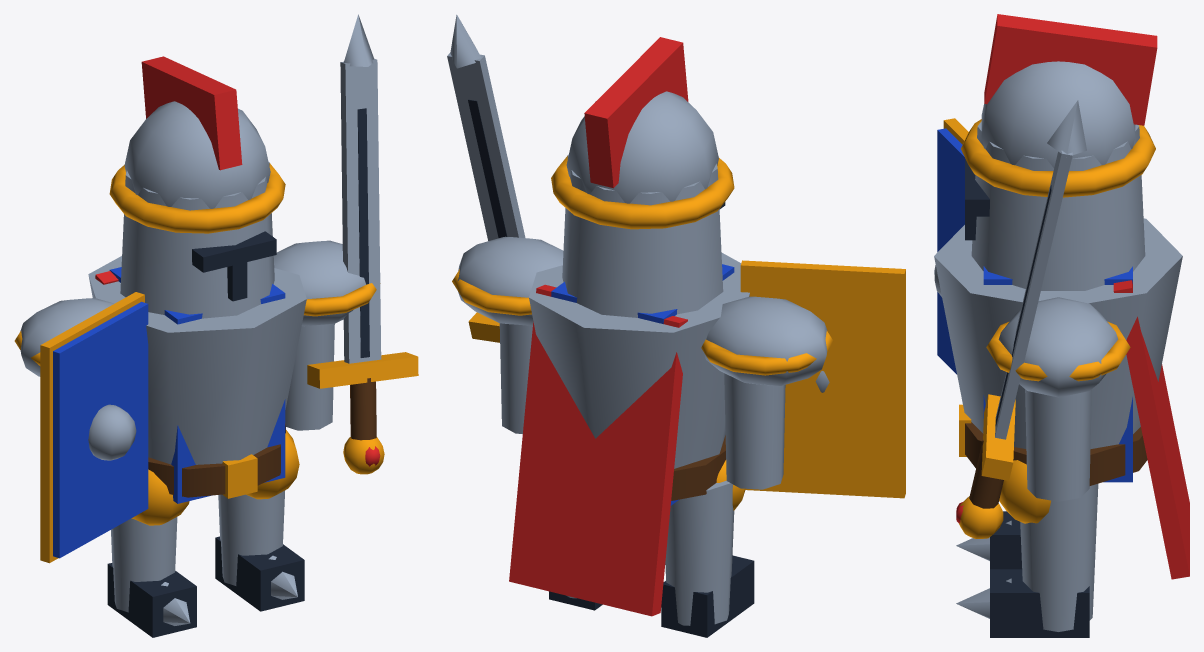
The model's file is warrior.glb.
The picture shows the model from 3 angles, left to right: view 1: azimuth 30°, elevation 25°; view 2: azimuth 150°, elevation 25°; view 3: azimuth 270°, elevation 25°; orthographic projection. The views are drawn at different scales.
Visible parts, largest first — view 1: warrior; view 2: warrior; view 3: warrior.
Boxes of the visible parts, x1,y1,x2,y2 form: warrior: [14, 14, 418, 637]; warrior: [447, 14, 905, 637]; warrior: [934, 14, 1189, 637].
Size of the model in its own units: 0.8 by 1.05 by 0.4113.
